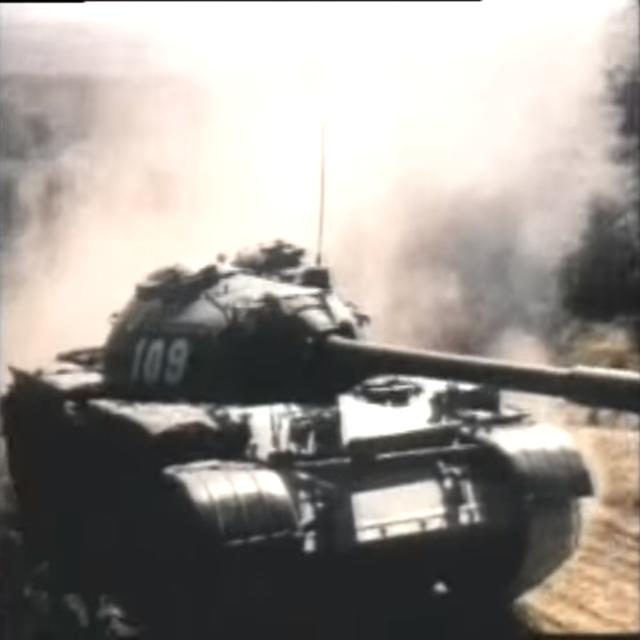north tank: (3, 185, 640, 639)
